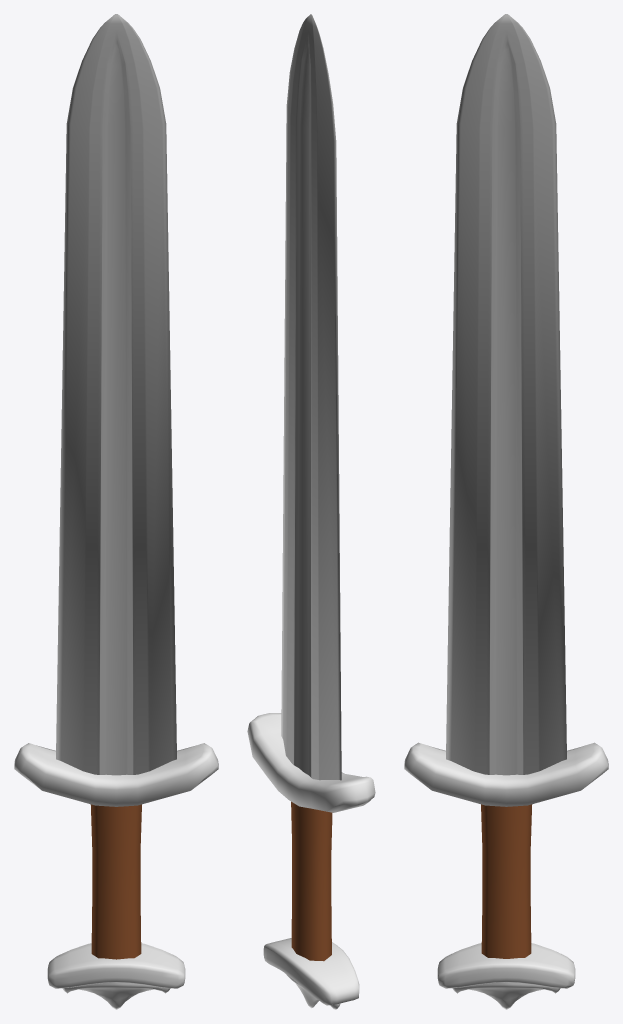
File: ironsword5.fbx
3 renders of one model, left to right at view 1: azimuth 90°, elevation 25°; view 2: azimuth 210°, elevation 25°; view 3: azimuth 270°, elevation 25°, orthographic.
Parts seen in each view (by area): view 1: IronSword; view 2: IronSword; view 3: IronSword.
Part boxes in pixels (left/top/right/bottom): IronSword: left=14, top=14, right=218, bottom=1009; IronSword: left=247, top=14, right=375, bottom=1009; IronSword: left=404, top=14, right=608, bottom=1009.
Size of the model in its own units: 34.11 by 624 by 116.
